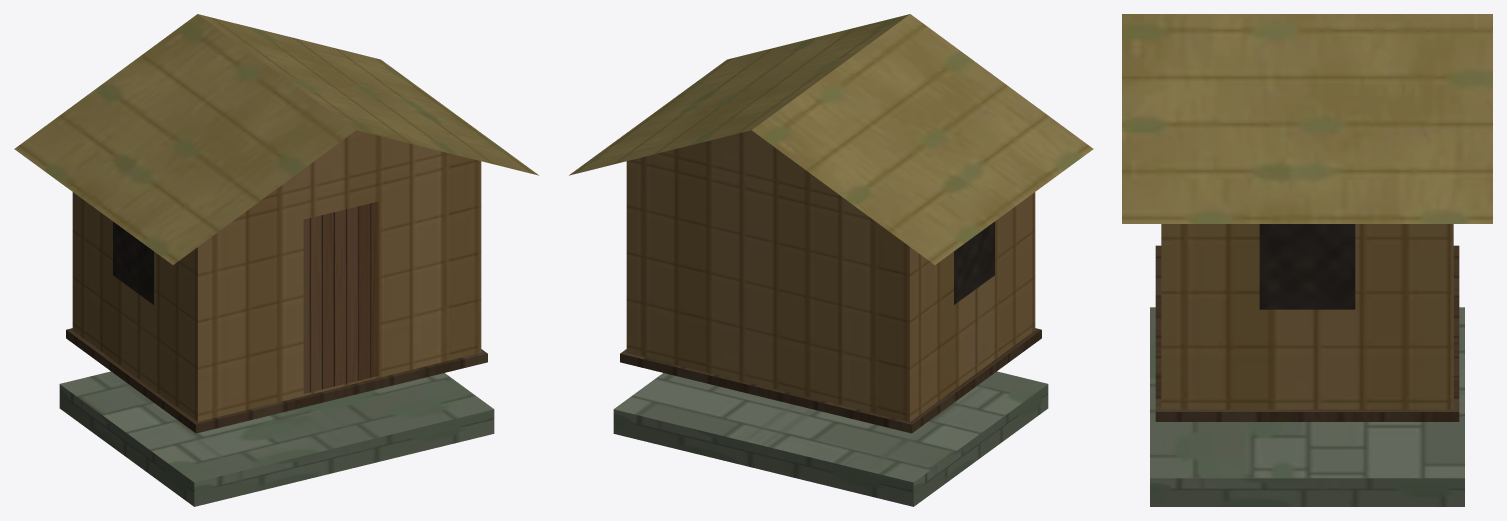
File: ae_jungle_wood_small_booth_lod2.glb
3 views of the same model, side by side, from view 1: azimuth 30°, elevation 25°; view 2: azimuth 150°, elevation 25°; view 3: azimuth 270°, elevation 25° (orthographic). The views are drawn at different scales.
Visible parts, largest first — view 1: ae_jungle_wood_small_booth_lod2; view 2: ae_jungle_wood_small_booth_lod2; view 3: ae_jungle_wood_small_booth_lod2.
Boxes of the visible parts, x1,y1,x2,y2 form: ae_jungle_wood_small_booth_lod2: (14,14,538,506); ae_jungle_wood_small_booth_lod2: (569,14,1093,506); ae_jungle_wood_small_booth_lod2: (1122,14,1492,506).
Size of the model in its own units: 4.4 by 4 by 3.3.
Materials: 1 (1 with a texture image).
